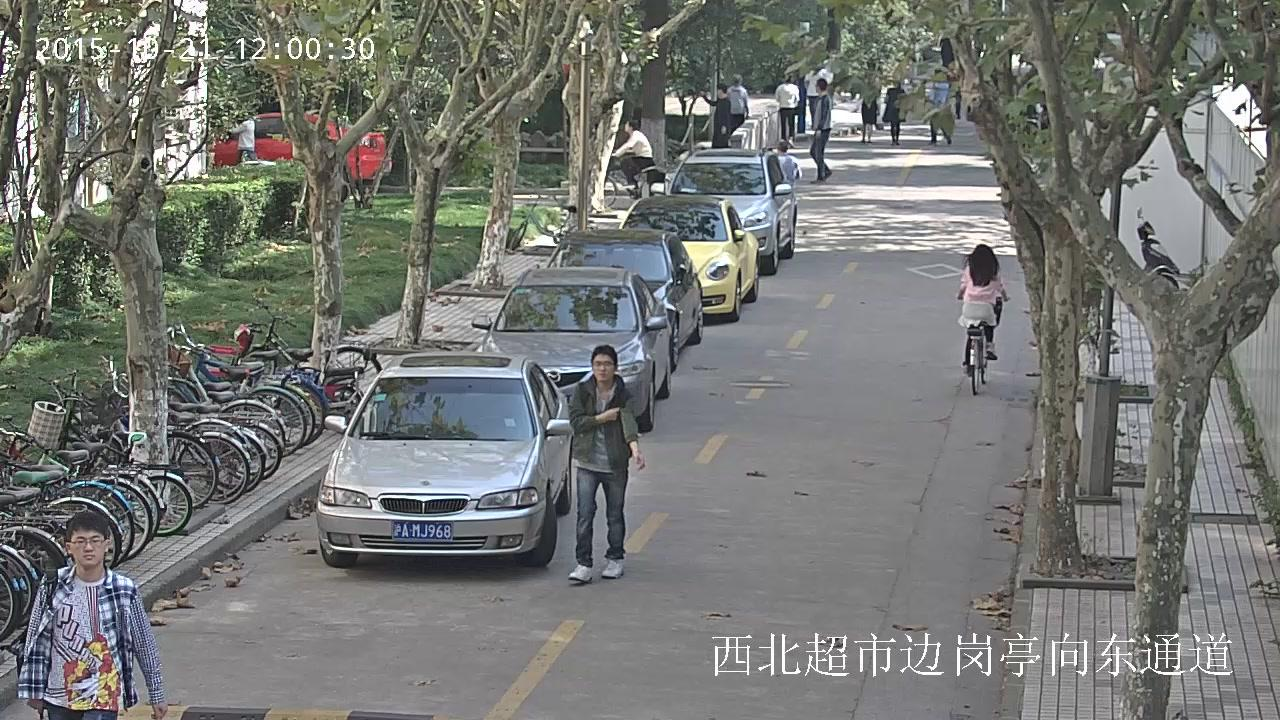face: (70, 529, 105, 566), (592, 354, 616, 377), (624, 120, 629, 132), (716, 87, 720, 98), (815, 82, 819, 93)
